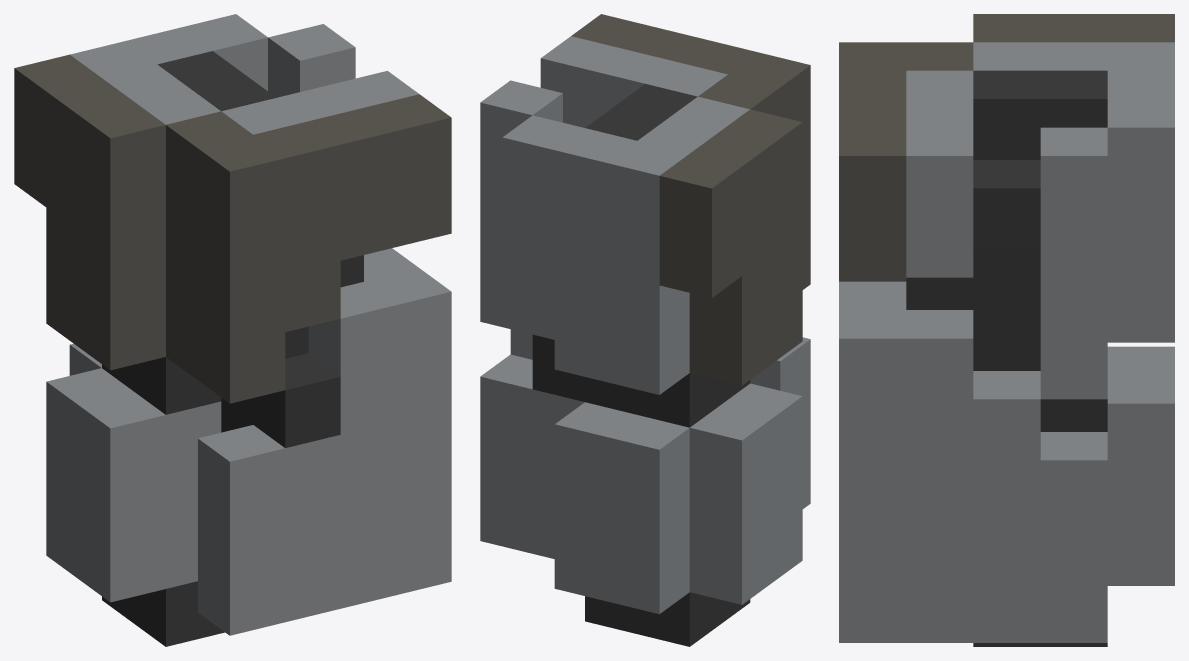
File: Arm-5.obj
3 renders of one model, left to right at view 1: azimuth 30°, elevation 25°; view 2: azimuth 150°, elevation 25°; view 3: azimuth 270°, elevation 25°, orthographic. The views are drawn at different scales.
Bounding box in the file's own units: 0.5 × 0.9 × 0.5.
Materials: 1 (1 with a texture image).
